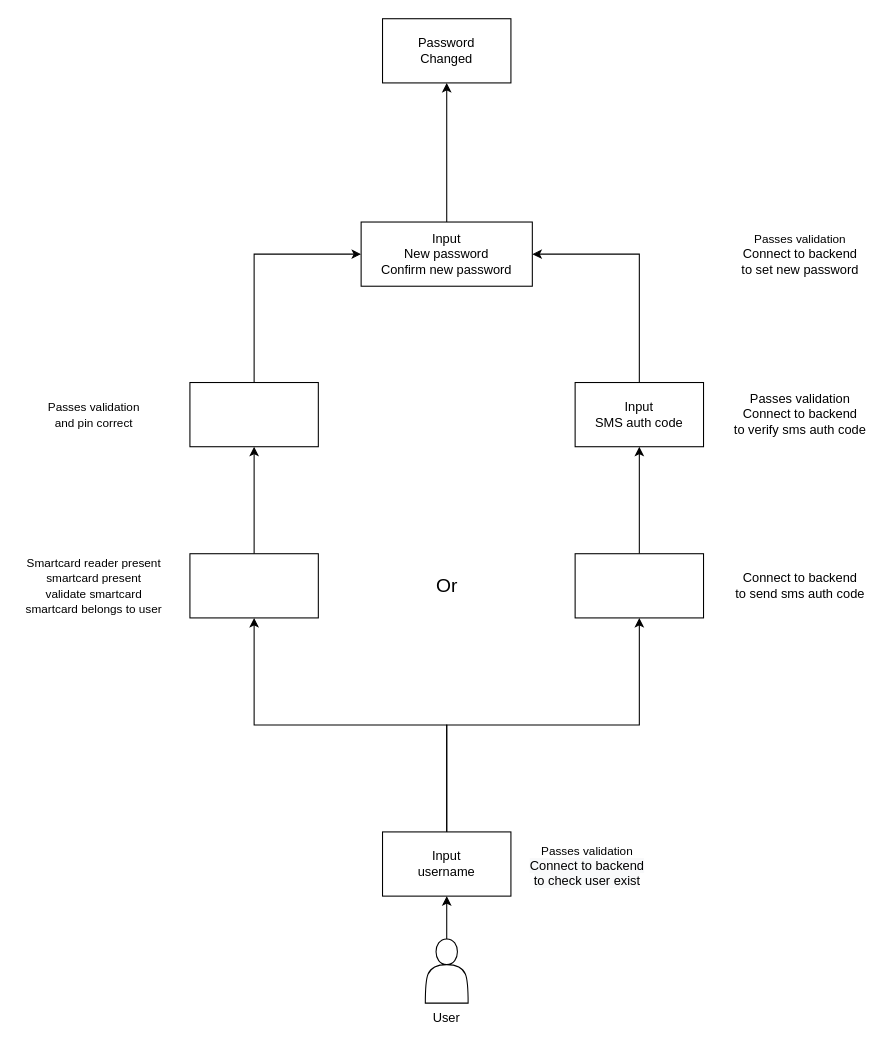
Image size: 892x1044. Some labels were removed from this diagram. Here are the shapes that lost their labels. From the top down, the box of each, then its label:
(189, 381, 318, 447): Input Pin
(189, 553, 318, 618): Smartcard
(574, 553, 704, 618): SMS auth code
